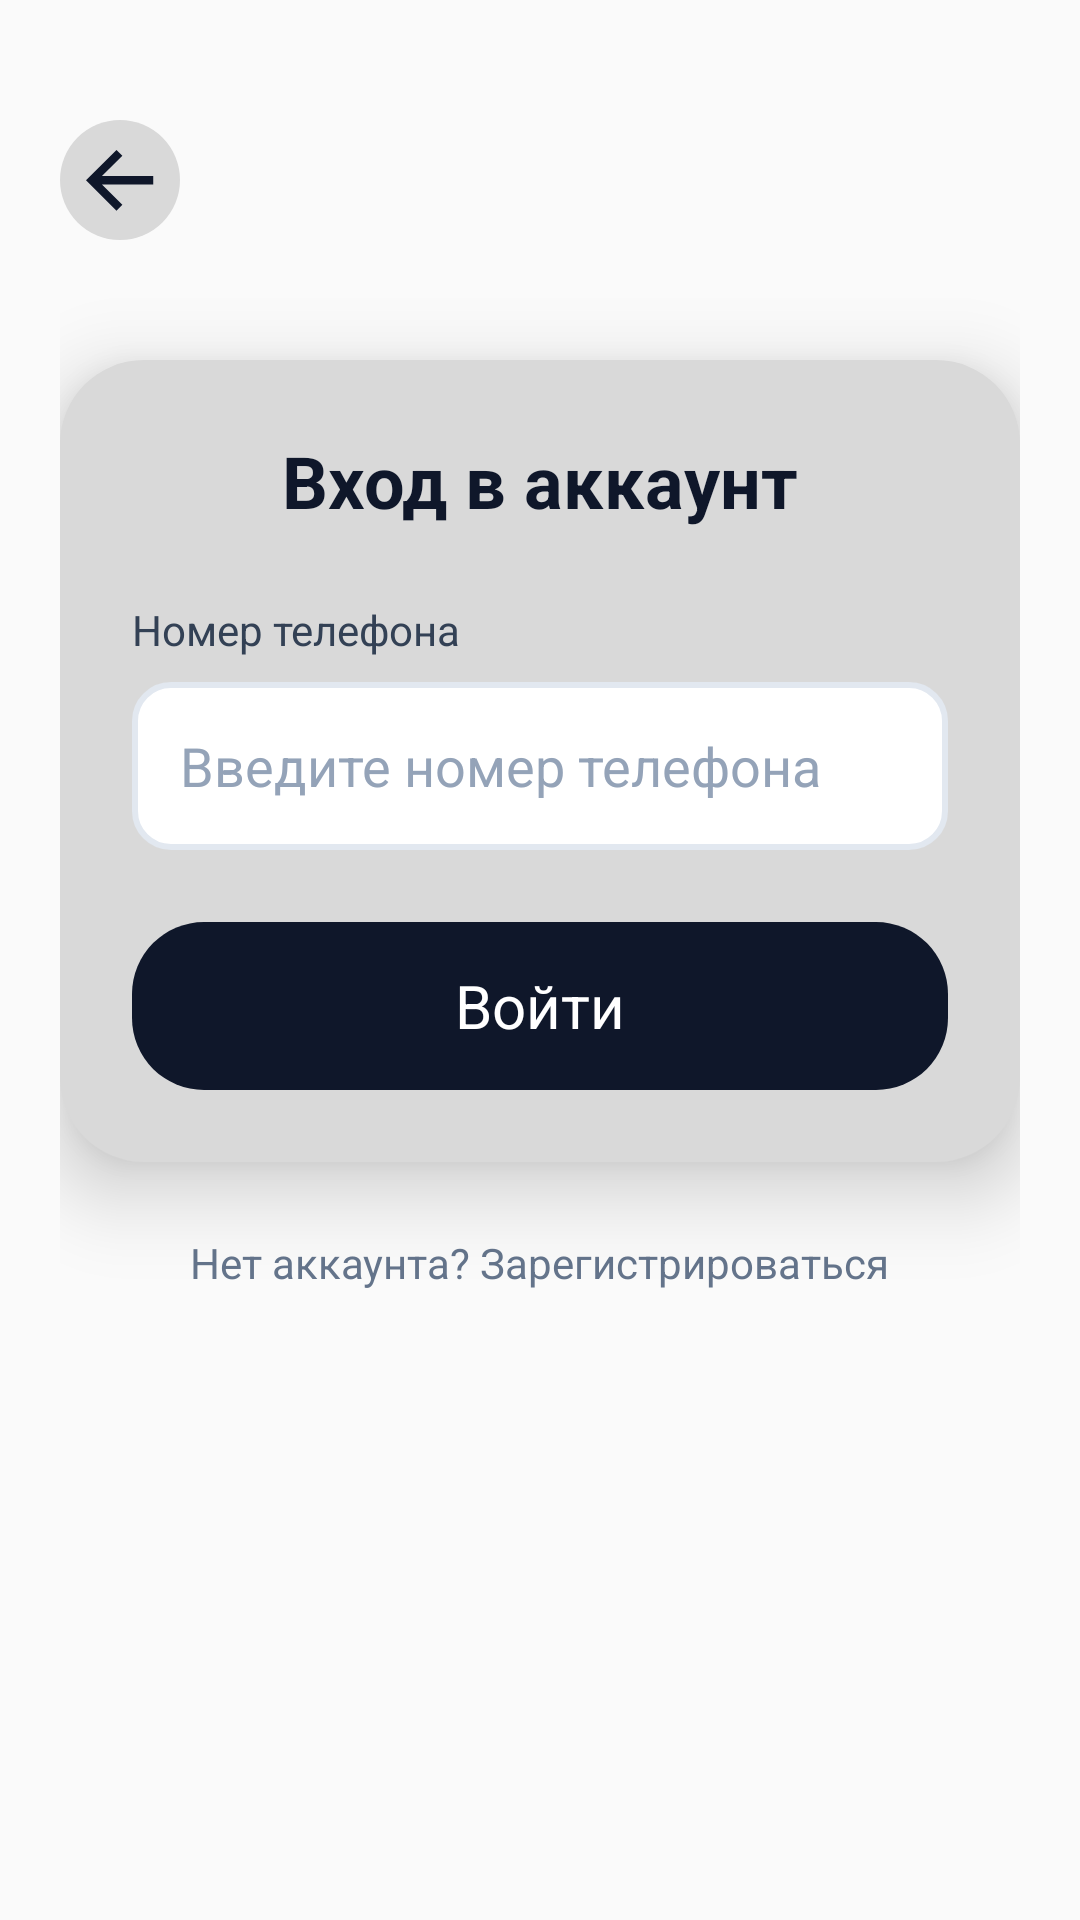

Icon click points for this 1080 x 1920 phone screenshot, format point (x, y):
arrow back: point (120, 180)
